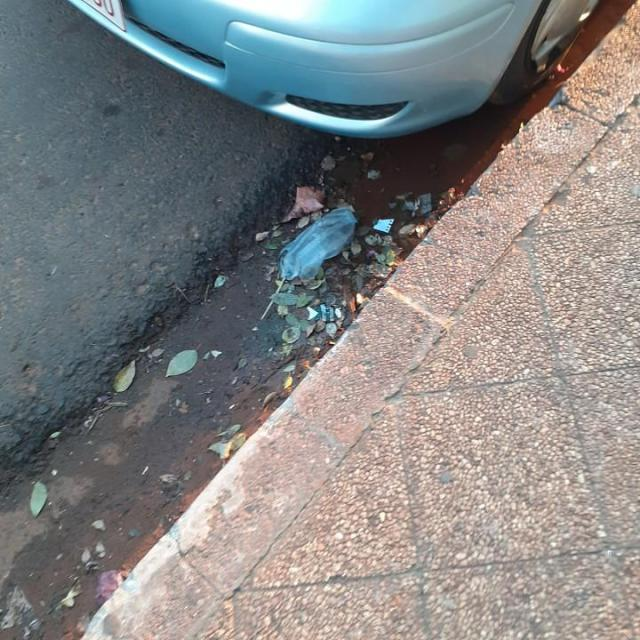litter: (281, 206, 356, 280)
